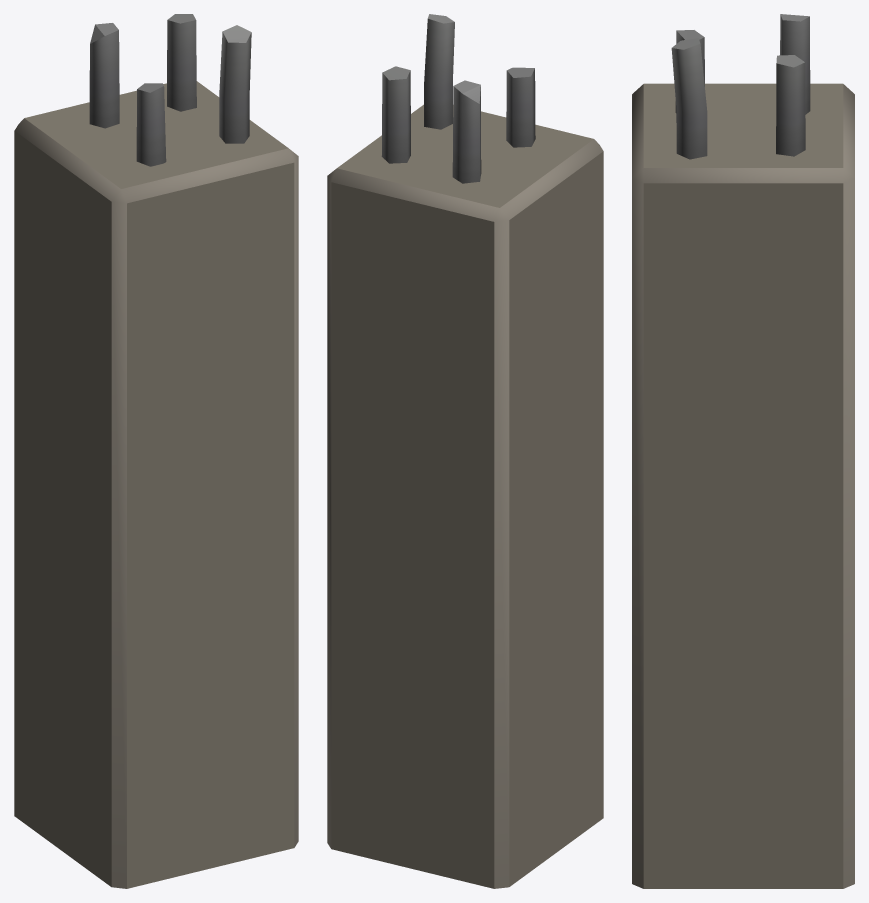
File: Pilar_A_2.fbx
The picture shows the model from 3 angles, left to right: view 1: azimuth 30°, elevation 25°; view 2: azimuth 150°, elevation 25°; view 3: azimuth 270°, elevation 25°; orthographic projection. The views are drawn at different scales.
Parts seen in each view (by area): view 1: Pilar_A_2; view 2: Pilar_A_2; view 3: Pilar_A_2.
Boxes of the visible parts, bbox=[...] form: Pilar_A_2: bbox=[14, 14, 298, 888]; Pilar_A_2: bbox=[327, 14, 603, 888]; Pilar_A_2: bbox=[632, 14, 854, 888].
Bounding box in the file's own units: 54.96 × 226 × 55.1.
